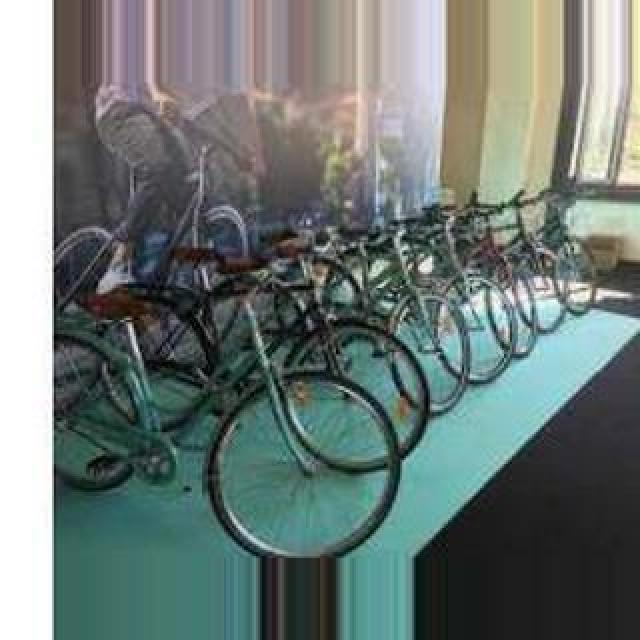Person: (62, 238, 408, 556), (100, 232, 430, 472), (422, 188, 574, 340)
